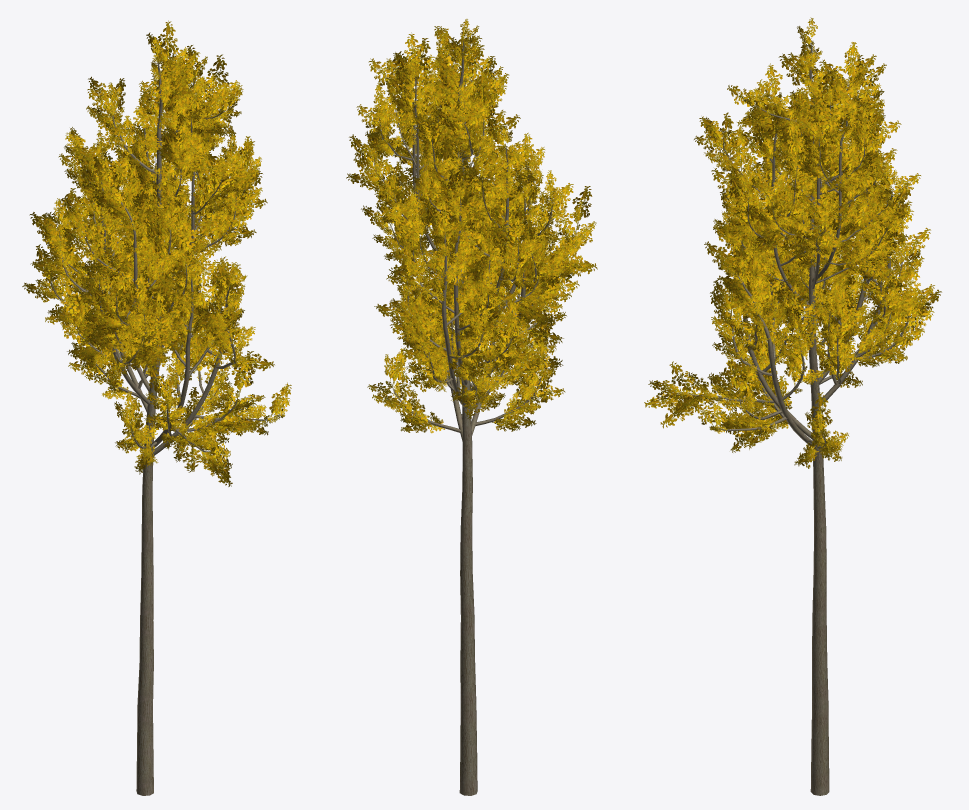
File: aspen_large_02.glb
3 views of the same model, side by side, from view 1: azimuth 30°, elevation 25°; view 2: azimuth 150°, elevation 25°; view 3: azimuth 270°, elevation 25° (orthographic). The views are drawn at different scales.
Parts seen in each view (by area): view 1: Tree; view 2: Tree; view 3: Tree.
Boxes of the visible parts, left/top/right/bottom form: Tree: left=22, top=20, right=291, bottom=795; Tree: left=346, top=19, right=597, bottom=795; Tree: left=644, top=17, right=941, bottom=795.
Bounding box in the file's own units: 33.68 × 102 × 37.64.
Materials: 2 (2 with a texture image).
